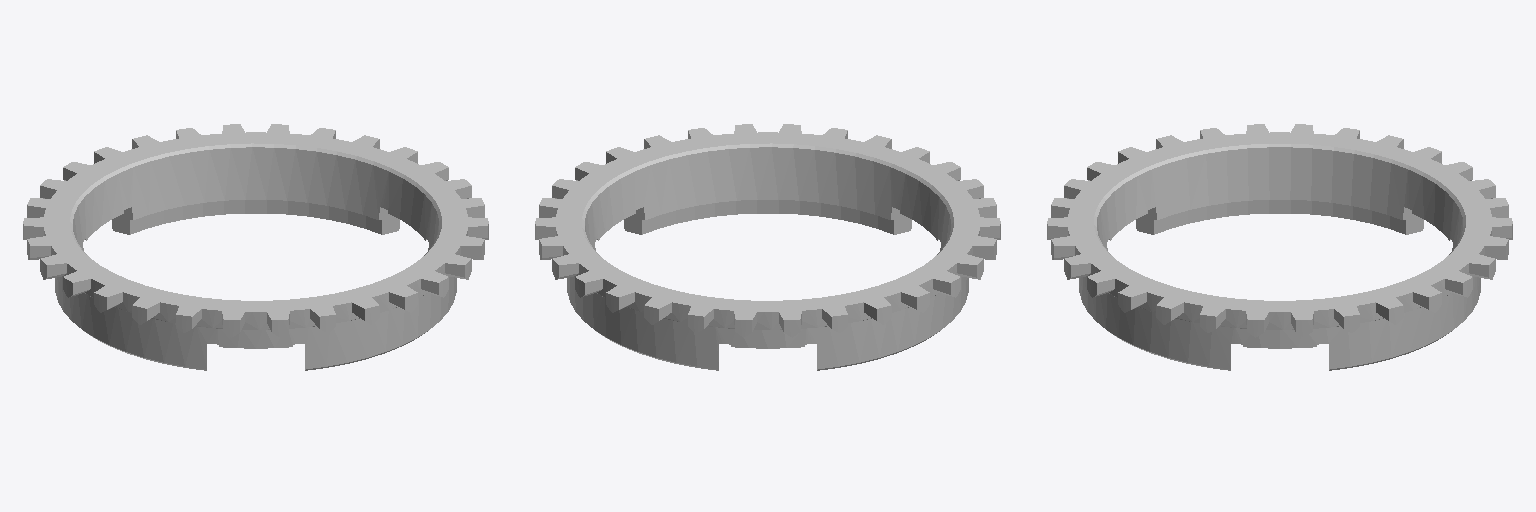
File: 64. Кольцо блокирующее.obj
3 views of the same model, side by side, from view 1: azimuth 30°, elevation 25°; view 2: azimuth 150°, elevation 25°; view 3: azimuth 270°, elevation 25° (orthographic).
Visible parts, largest first — view 1: Твердое тело2; view 2: Твердое тело2; view 3: Твердое тело2.
Boxes of the visible parts, <box> form: Твердое тело2: <box>23,124,488,370</box>; Твердое тело2: <box>535,124,1000,370</box>; Твердое тело2: <box>1047,124,1512,370</box>.
Bounding box in the file's own units: 80.81 × 13 × 81.